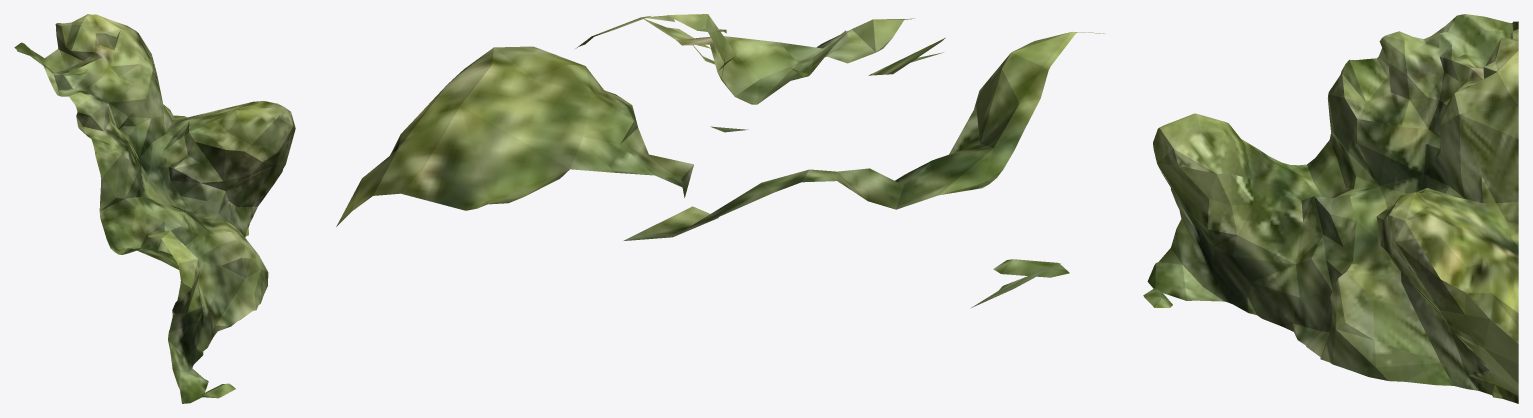
The picture shows the model from 3 angles, left to right: view 1: azimuth 30°, elevation 25°; view 2: azimuth 150°, elevation 25°; view 3: azimuth 270°, elevation 25°; orthographic projection. The views are drawn at different scales.
Bounding box in the file's own units: 1.08 × 0.9928 × 1.23.
1 material, 1 textured.
